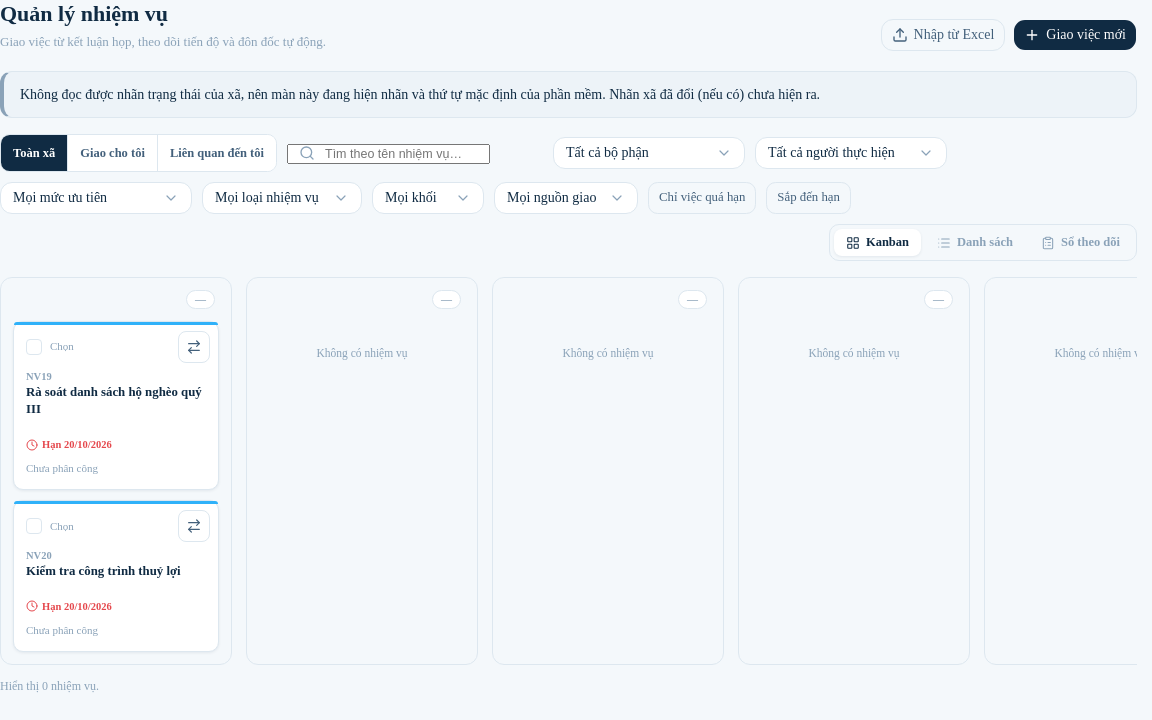
Test: record tabs on the task panel › switching to A shows A's detail and REPLACES `?task=` (one Back still closes)
The image size is (1152, 720).
What coordinates should you click on to do the following:
click the button "NV19 Rà soát danh sách hộ nghèo quý III"
I would click on:
 (116, 392)
Its box is [14, 364, 218, 419].
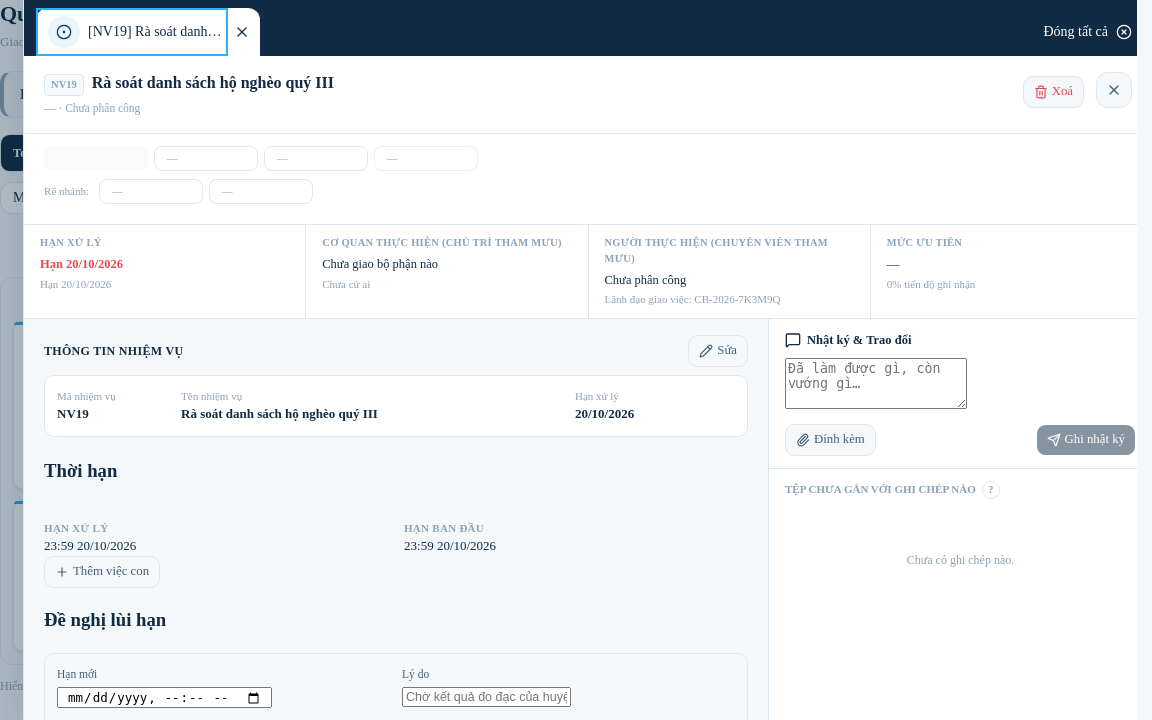
What coordinates should you click on to do the following:
click the button named "Đóng"
I would click on:
 (1114, 90)
Its box is [1096, 72, 1132, 108].
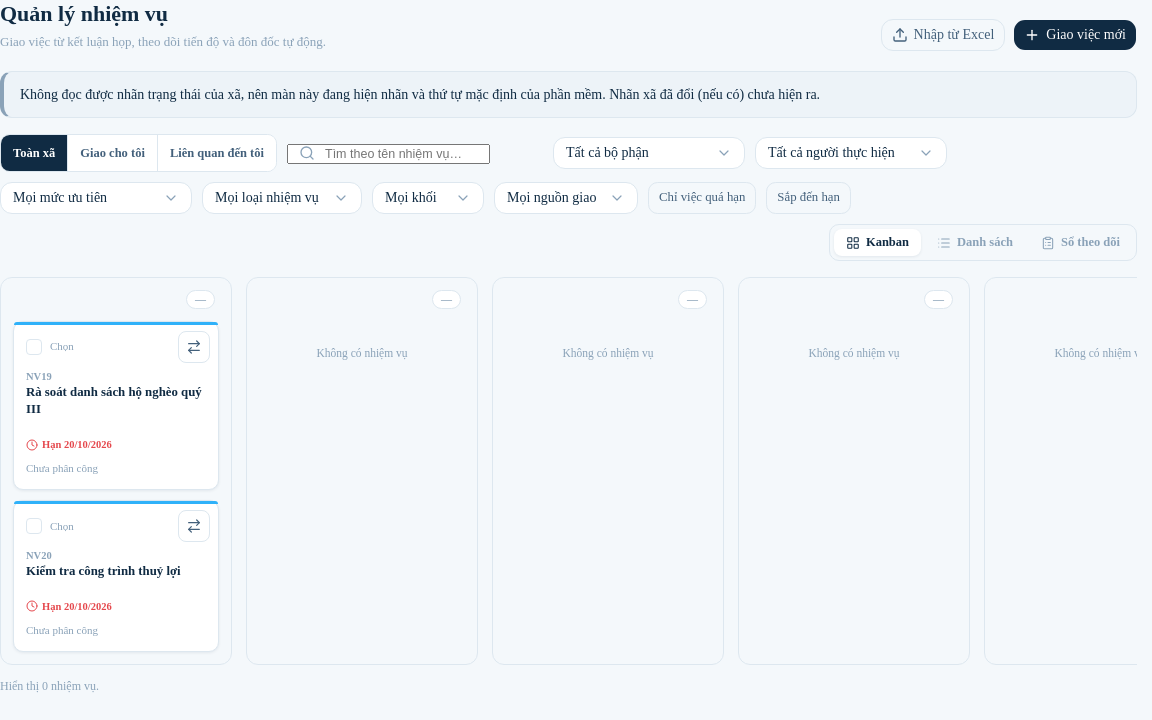
What coordinates should you click on to do the following:
click the button "NV20 Kiểm tra công trình thuỷ lợi"
I would click on:
 (116, 562)
Its box is [14, 544, 218, 580].
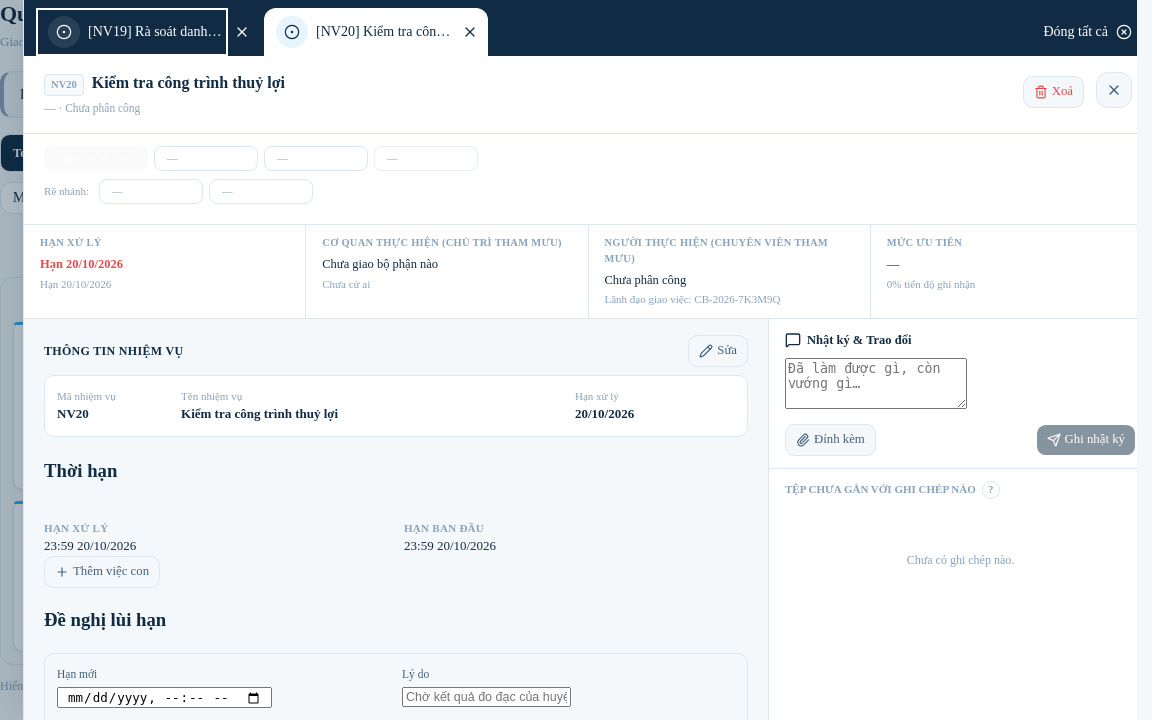
What coordinates should you click on to do the following:
click the tab "[NV19] Rà soát danh sách hộ nghèo quý III"
I would click on:
 (132, 32)
Its box is [36, 8, 228, 56].
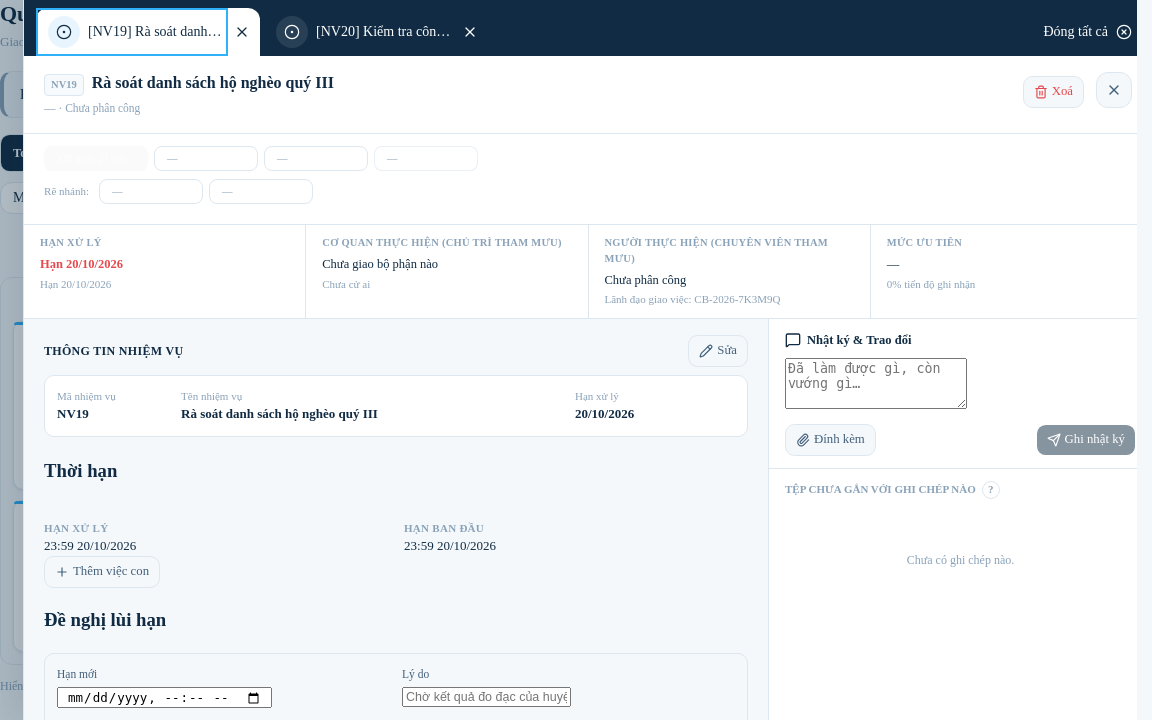
Check: the tab "[NV19] Rà soát danh sách hộ nghèo quý III" is shown, box [36, 8, 228, 56]
Check: the header with id "tieu-de-chi-tiet-nhiem-vu" shows "NV19", box [51, 79, 77, 90]
